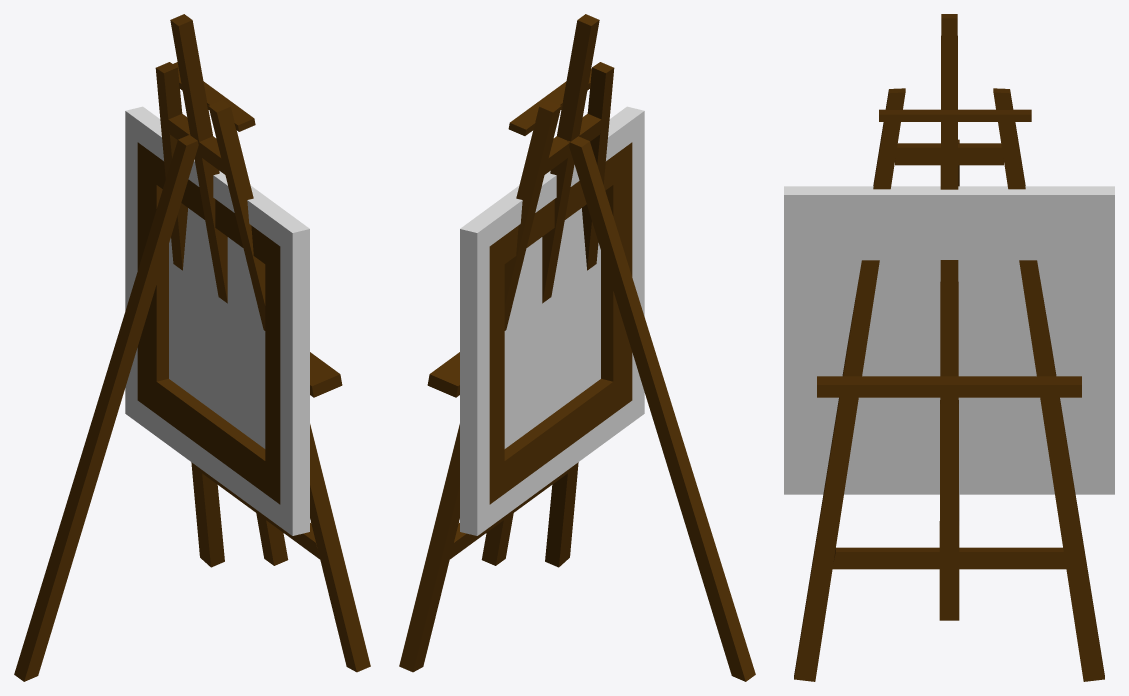
Rendered from easelcanvas.fbx.
3 views of the same model, side by side, from view 1: azimuth 30°, elevation 25°; view 2: azimuth 150°, elevation 25°; view 3: azimuth 270°, elevation 25° (orthographic).
Parts seen in each view (by area): view 1: Canvas_FaceFront, Canvas_FaceBack, Easel_Wings, Easel_Back, Canvas_Frame, Canvas_Frame2, Easel_Main, Easel_Support_Upper, Easel_Base_Lower, Easel_Base_Upper, Easel_Support_Lower; view 2: Canvas_FaceFront, Canvas_FaceBack, Easel_Wings, Easel_Back, Canvas_Frame, Canvas_Frame2, Easel_Main, Easel_Support_Upper, Easel_Base_Upper, Easel_Base_Lower, Easel_Support_Lower; view 3: Canvas_FaceFront, Easel_Wings, Easel_Main, Easel_Base_Lower, Easel_Support_Lower, Easel_Support_Upper, Easel_Base_Upper.
Part boxes in pixels (x1,y1,x2,y2): Canvas_FaceFront: (125, 106, 309, 535); Canvas_FaceBack: (169, 208, 265, 448); Easel_Wings: (155, 62, 370, 672); Easel_Back: (14, 134, 198, 681); Canvas_Frame: (137, 145, 280, 504); Canvas_Frame2: (137, 142, 280, 504); Easel_Main: (170, 14, 288, 565); Easel_Support_Upper: (168, 113, 225, 174); Easel_Base_Lower: (310, 352, 342, 397); Easel_Base_Upper: (173, 62, 255, 131); Easel_Support_Lower: (201, 470, 320, 559); Canvas_FaceFront: (460, 106, 644, 535); Canvas_FaceBack: (504, 208, 600, 448); Easel_Wings: (399, 62, 614, 672); Easel_Back: (567, 136, 755, 681); Canvas_Frame: (489, 142, 632, 503); Canvas_Frame2: (489, 171, 632, 504); Easel_Main: (481, 14, 599, 565); Easel_Support_Upper: (544, 113, 601, 174); Easel_Base_Upper: (508, 68, 591, 135); Easel_Base_Lower: (427, 352, 459, 397); Easel_Support_Lower: (449, 470, 567, 559); Canvas_FaceFront: (784, 186, 1114, 494); Easel_Wings: (794, 88, 1104, 681); Easel_Main: (939, 14, 959, 620); Easel_Base_Lower: (817, 376, 1081, 397); Easel_Support_Lower: (832, 547, 1066, 569); Easel_Support_Upper: (895, 143, 1003, 165); Easel_Base_Upper: (879, 109, 1031, 121).
Bounding box in the file's own units: 189 × 411 × 200.
